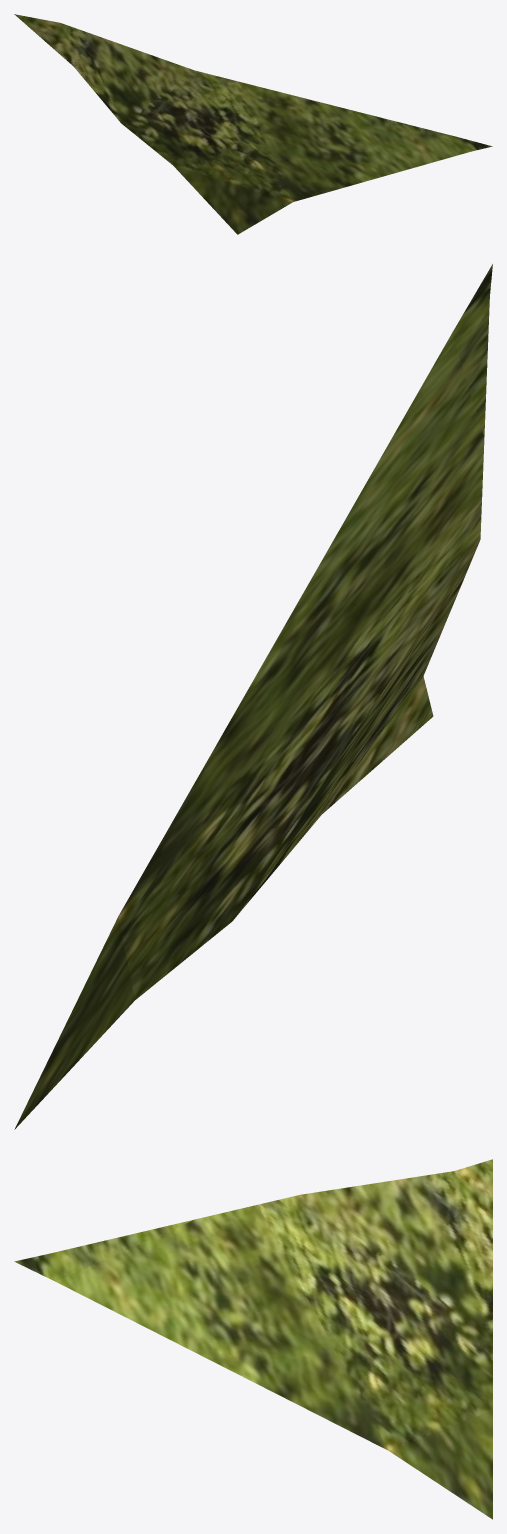
The picture shows the model from 3 angles, top to bottom: view 1: azimuth 30°, elevation 25°; view 2: azimuth 150°, elevation 25°; view 3: azimuth 270°, elevation 25°; orthographic projection. The views are drawn at different scales.
Size of the model in its own units: 1.21 by 1.43 by 2.4.
1 material, 1 textured.
